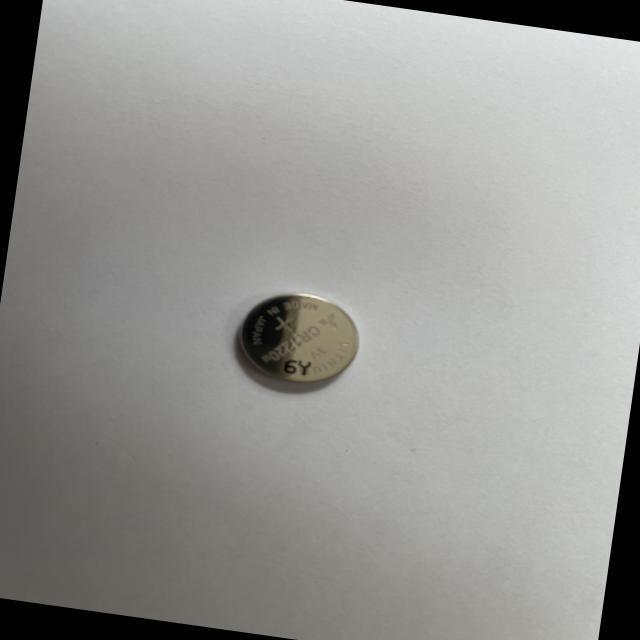COIN: (232, 282, 368, 394)
